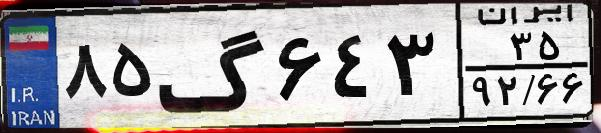2: (495, 70, 520, 125)
3: (385, 28, 445, 110), (508, 27, 537, 80)
4: (330, 28, 385, 110)
5: (110, 28, 156, 98), (537, 27, 568, 80)
6: (270, 28, 330, 110), (560, 70, 590, 125), (535, 70, 560, 125)
8: (57, 26, 110, 100)
9: (470, 70, 495, 125)
گ: (156, 12, 270, 120)
